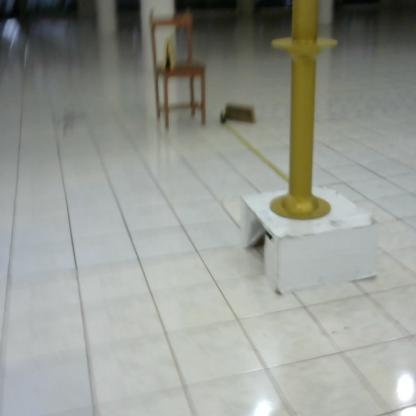pole: (270, 1, 341, 224)
